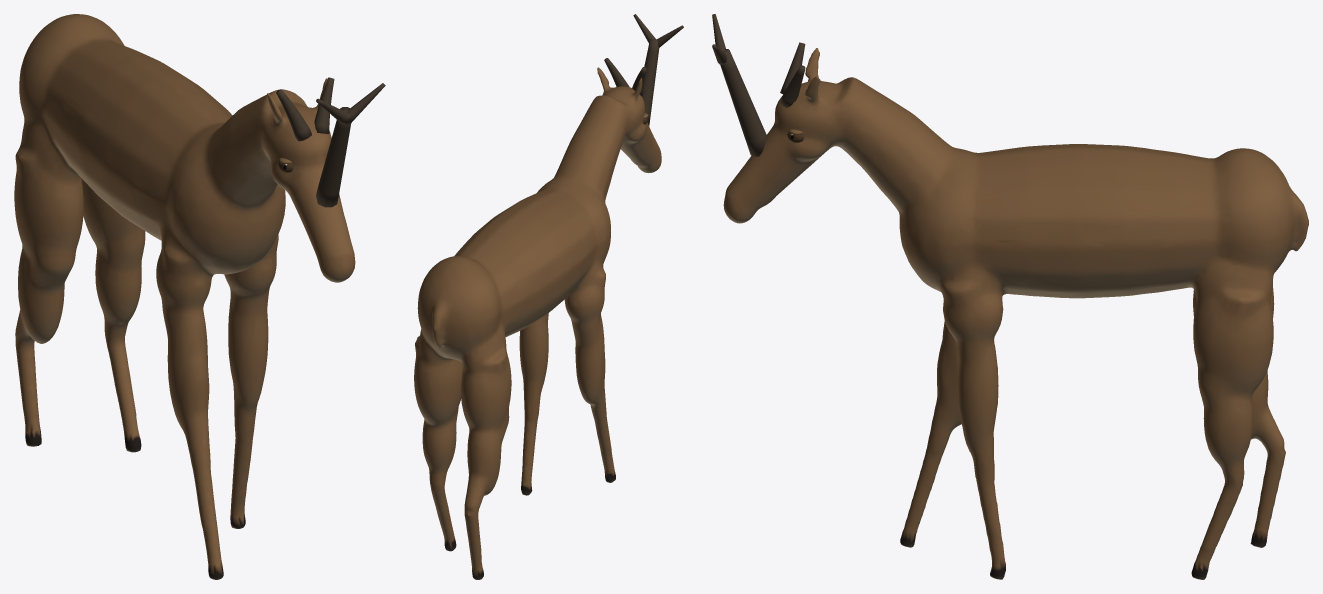
Rendered from SynthetocerasTricornatus.fbx.
3 renders of one model, left to right at view 1: azimuth 30°, elevation 25°; view 2: azimuth 150°, elevation 25°; view 3: azimuth 270°, elevation 25°, orthographic. The views are drawn at different scales.
Parts seen in each view (by area): view 1: SynthetocerasTricornatus; view 2: SynthetocerasTricornatus; view 3: SynthetocerasTricornatus.
Part boxes in pixels (x1,y1,x2,y2): SynthetocerasTricornatus: (14, 14, 385, 579); SynthetocerasTricornatus: (414, 14, 683, 579); SynthetocerasTricornatus: (712, 14, 1308, 579).
Bounding box in the file's own units: 0.347 × 1.53 × 1.55.
